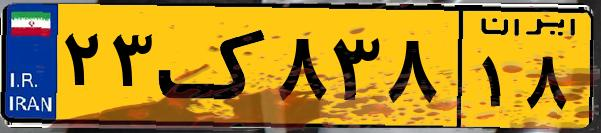1: (475, 38, 525, 113)
2: (57, 26, 110, 100)
3: (330, 28, 385, 110), (110, 28, 158, 98)
8: (270, 28, 330, 110), (385, 28, 445, 110), (525, 38, 570, 115)
ک: (158, 12, 270, 120)
